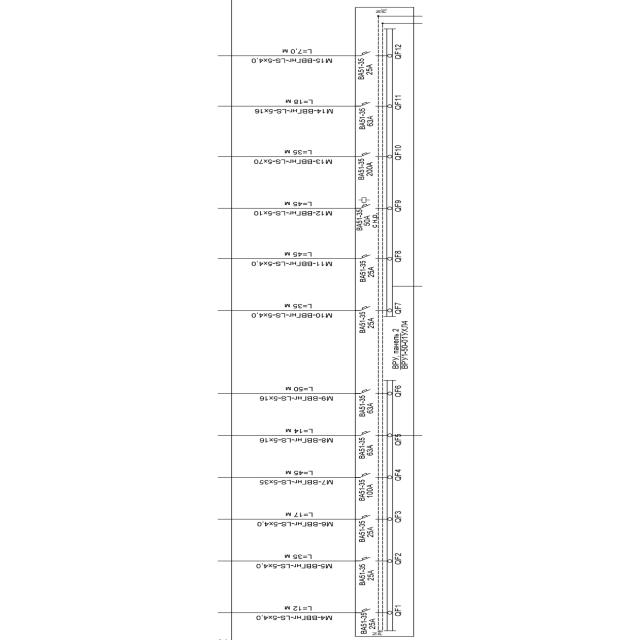-: (400, 319, 410, 370), (355, 210, 378, 232), (356, 438, 373, 460), (357, 158, 374, 180), (358, 260, 375, 282), (357, 479, 374, 501), (357, 520, 374, 542), (356, 58, 373, 80), (357, 394, 374, 416), (358, 312, 375, 334), (358, 108, 374, 130), (360, 612, 376, 634), (359, 564, 375, 586)
ITU: (361, 197, 367, 203)
QF: (358, 203, 378, 210), (359, 50, 376, 58), (359, 430, 376, 438), (359, 253, 376, 261), (360, 607, 376, 615), (360, 472, 377, 479), (360, 152, 377, 159), (360, 305, 377, 312), (360, 514, 376, 521), (359, 389, 375, 396), (359, 555, 375, 562), (360, 101, 376, 108)
